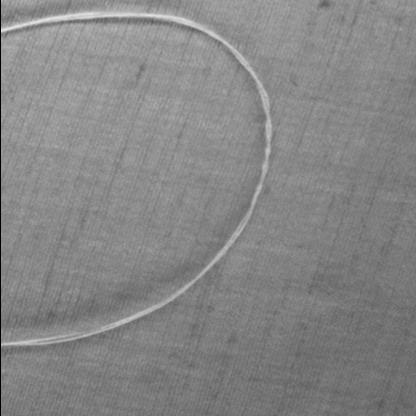objects: (1, 9, 276, 350)
